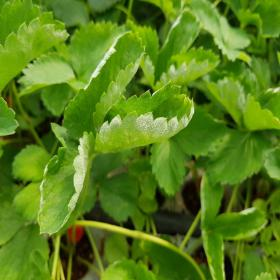Powdery Mildew Leaf: (62, 30, 148, 141), (95, 78, 196, 156), (36, 122, 96, 236)
